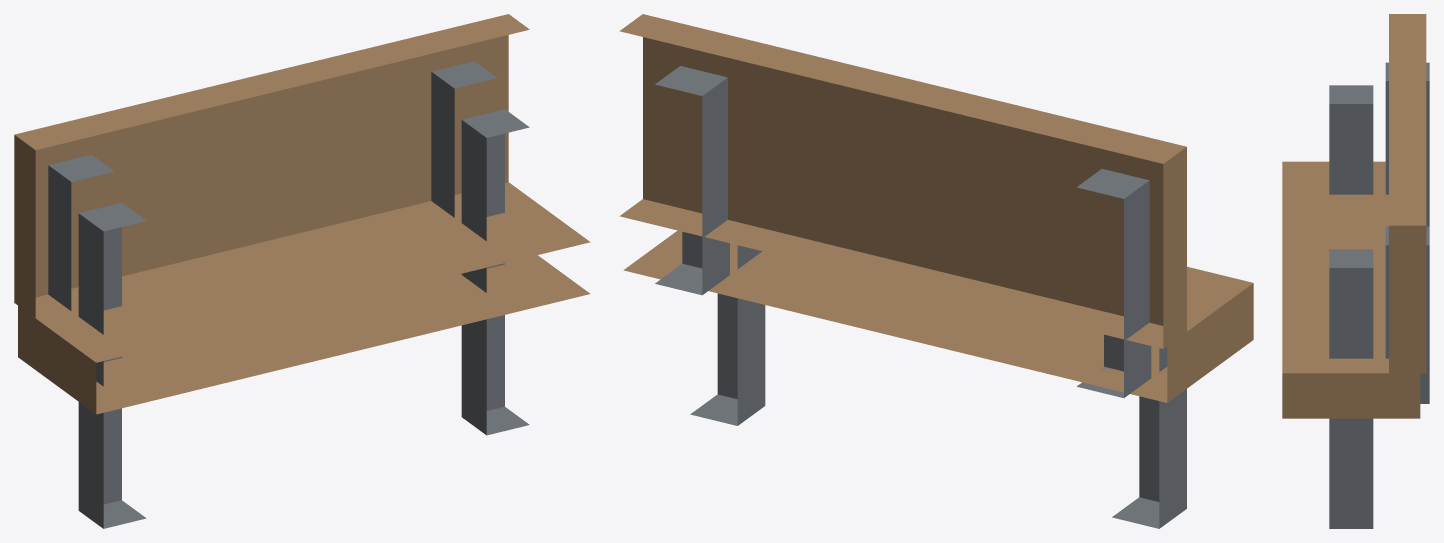
The model's file is benchOutdoor.glb.
3 renders of one model, left to right at view 1: azimuth 30°, elevation 25°; view 2: azimuth 150°, elevation 25°; view 3: azimuth 270°, elevation 25°, orthographic. The views are drawn at different scales.
Parts seen in each view (by area): view 1: benchOutdoor; view 2: benchOutdoor; view 3: benchOutdoor.
Boxes of the visible parts, <box> form: benchOutdoor: <box>14,14,590,528</box>; benchOutdoor: <box>619,14,1253,528</box>; benchOutdoor: <box>1282,14,1429,528</box>.
Bounding box in the file's own units: 1.6 × 1.12 × 0.47.
